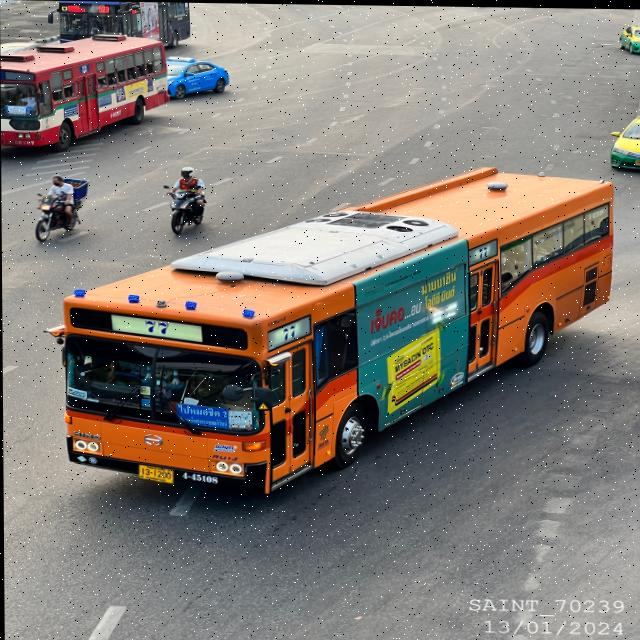BMTA-bus: (49, 166, 617, 495)
Bus Line Number: (130, 309, 188, 339), (279, 323, 297, 339)
Bus Side Number: (177, 469, 220, 486)
Destination Sign: (176, 400, 232, 429)
